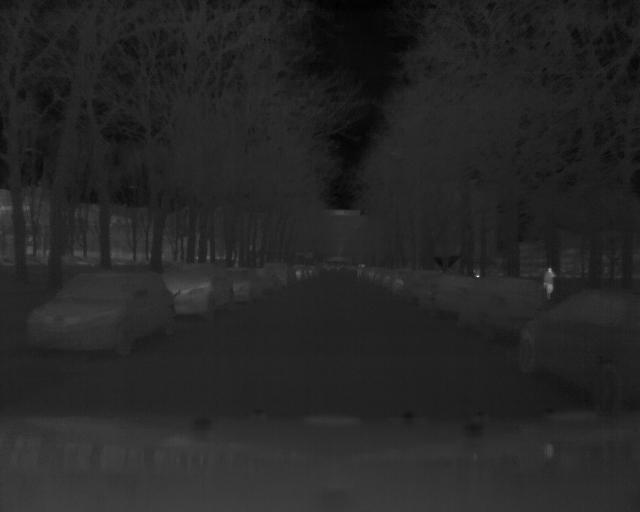car: (520, 297, 640, 411), (23, 268, 176, 355), (453, 277, 538, 341), (166, 258, 235, 318), (416, 276, 462, 320), (230, 265, 262, 301)
person: (541, 263, 555, 300)
